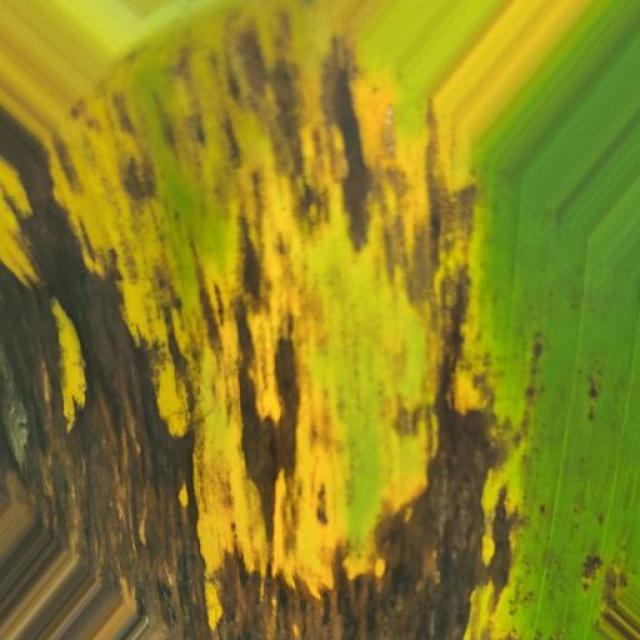Early_rust: (0, 16, 556, 640)
